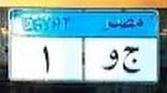1: (40, 44, 51, 73)
jeem: (120, 47, 142, 73)
waw: (100, 49, 120, 72)
